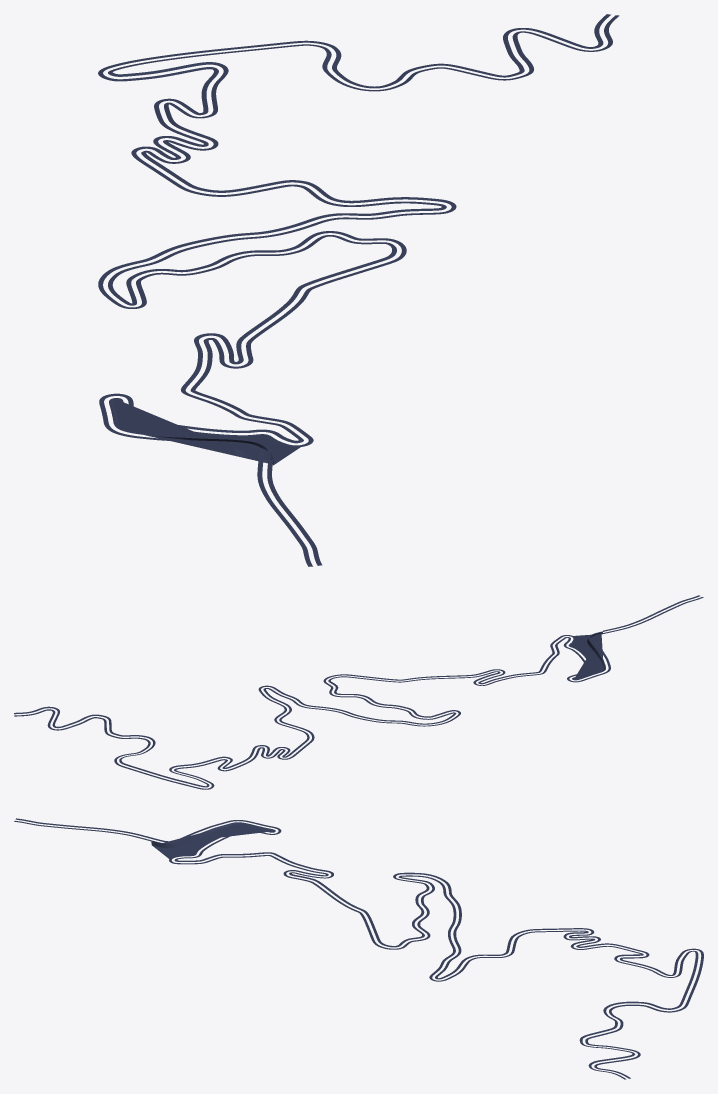
Rendered from CloserDecorations.fbx.
3 renders of one model, top to bottom at view 1: azimuth 30°, elevation 25°; view 2: azimuth 150°, elevation 25°; view 3: azimuth 270°, elevation 25°, orthographic. The views are drawn at different scales.
Visible parts, largest first — view 1: Plane.002; view 2: Plane.002; view 3: Plane.002.
Part boxes in pixels (x1,y1,x2,y2): Plane.002: (98,14,619,566); Plane.002: (14,595,703,789); Plane.002: (14,818,703,1079).
Bounding box in the file's own units: 273182 × 14570 × 337193.
